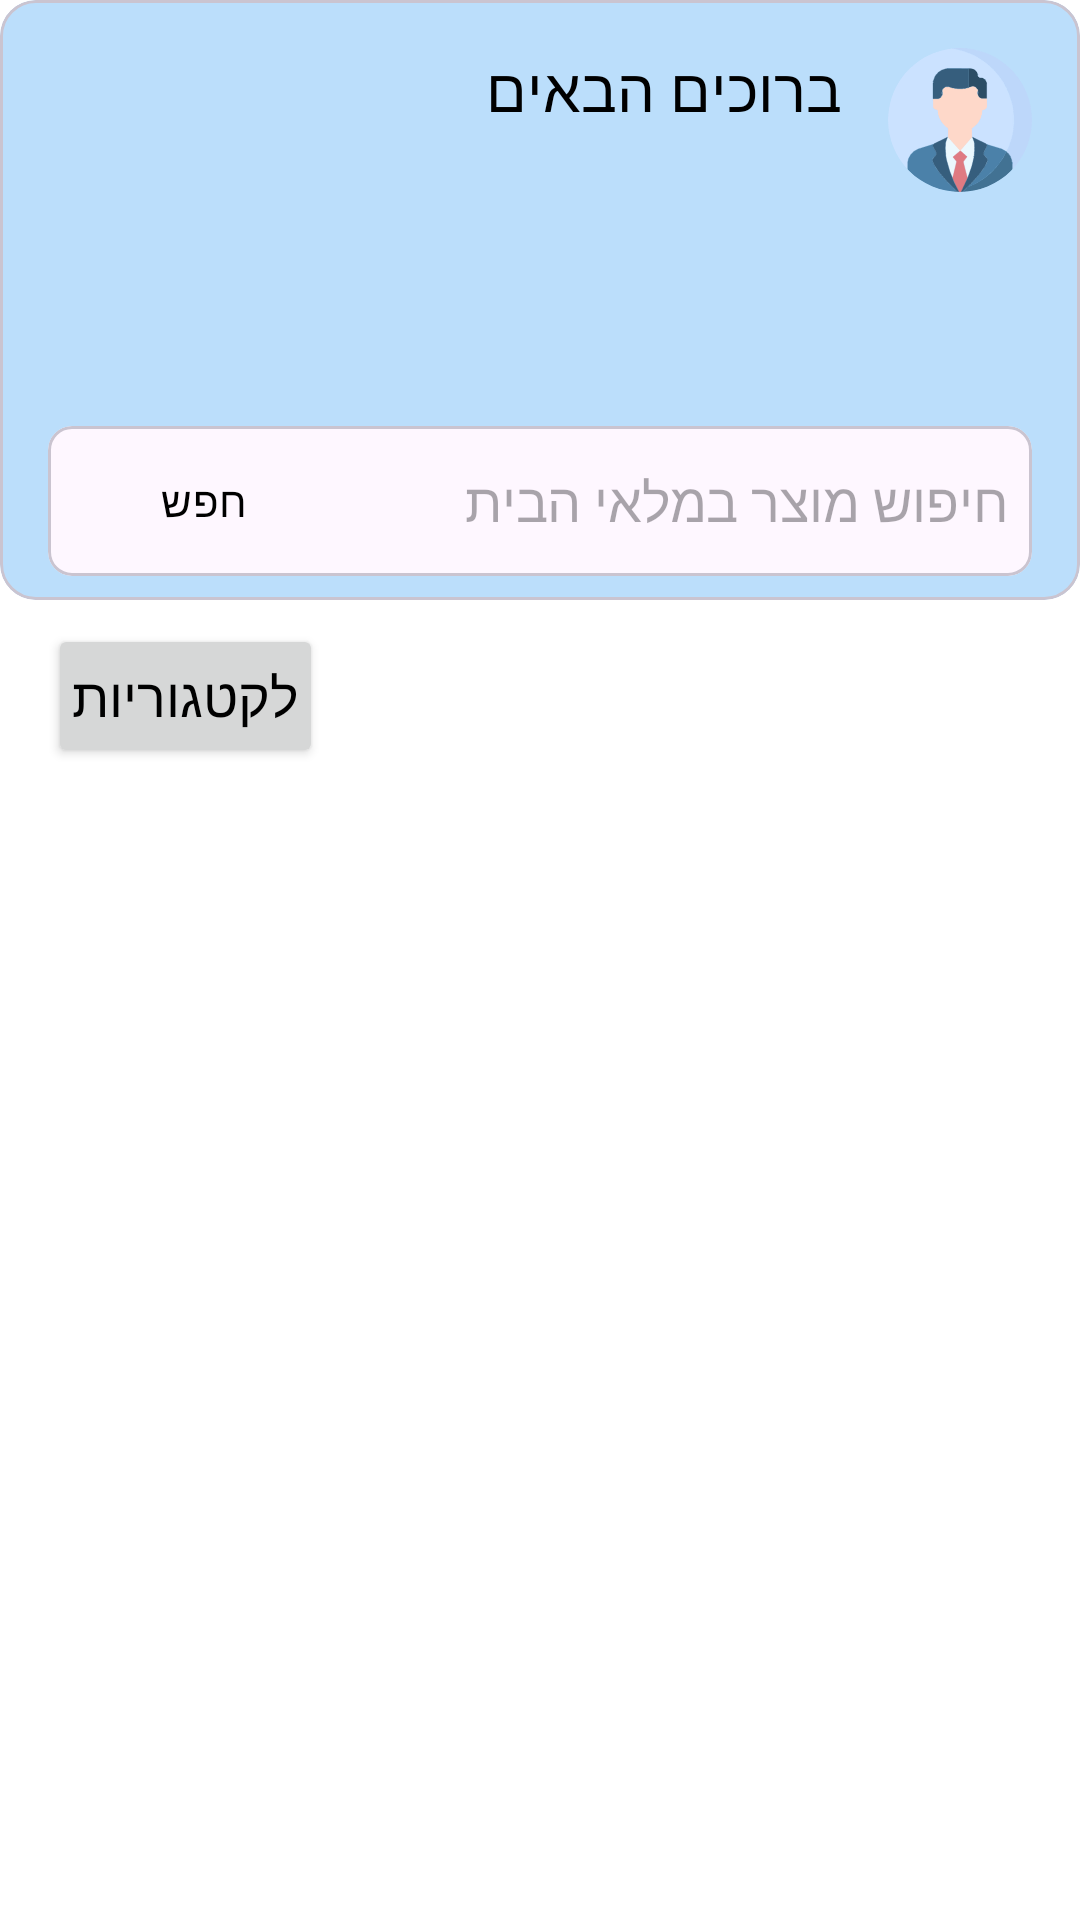

Where icons sit on this 1080px x 1920px app screen, as bbox=[x1, y1, x2, y2]:
profile man: bbox=[907, 68, 1013, 192]
